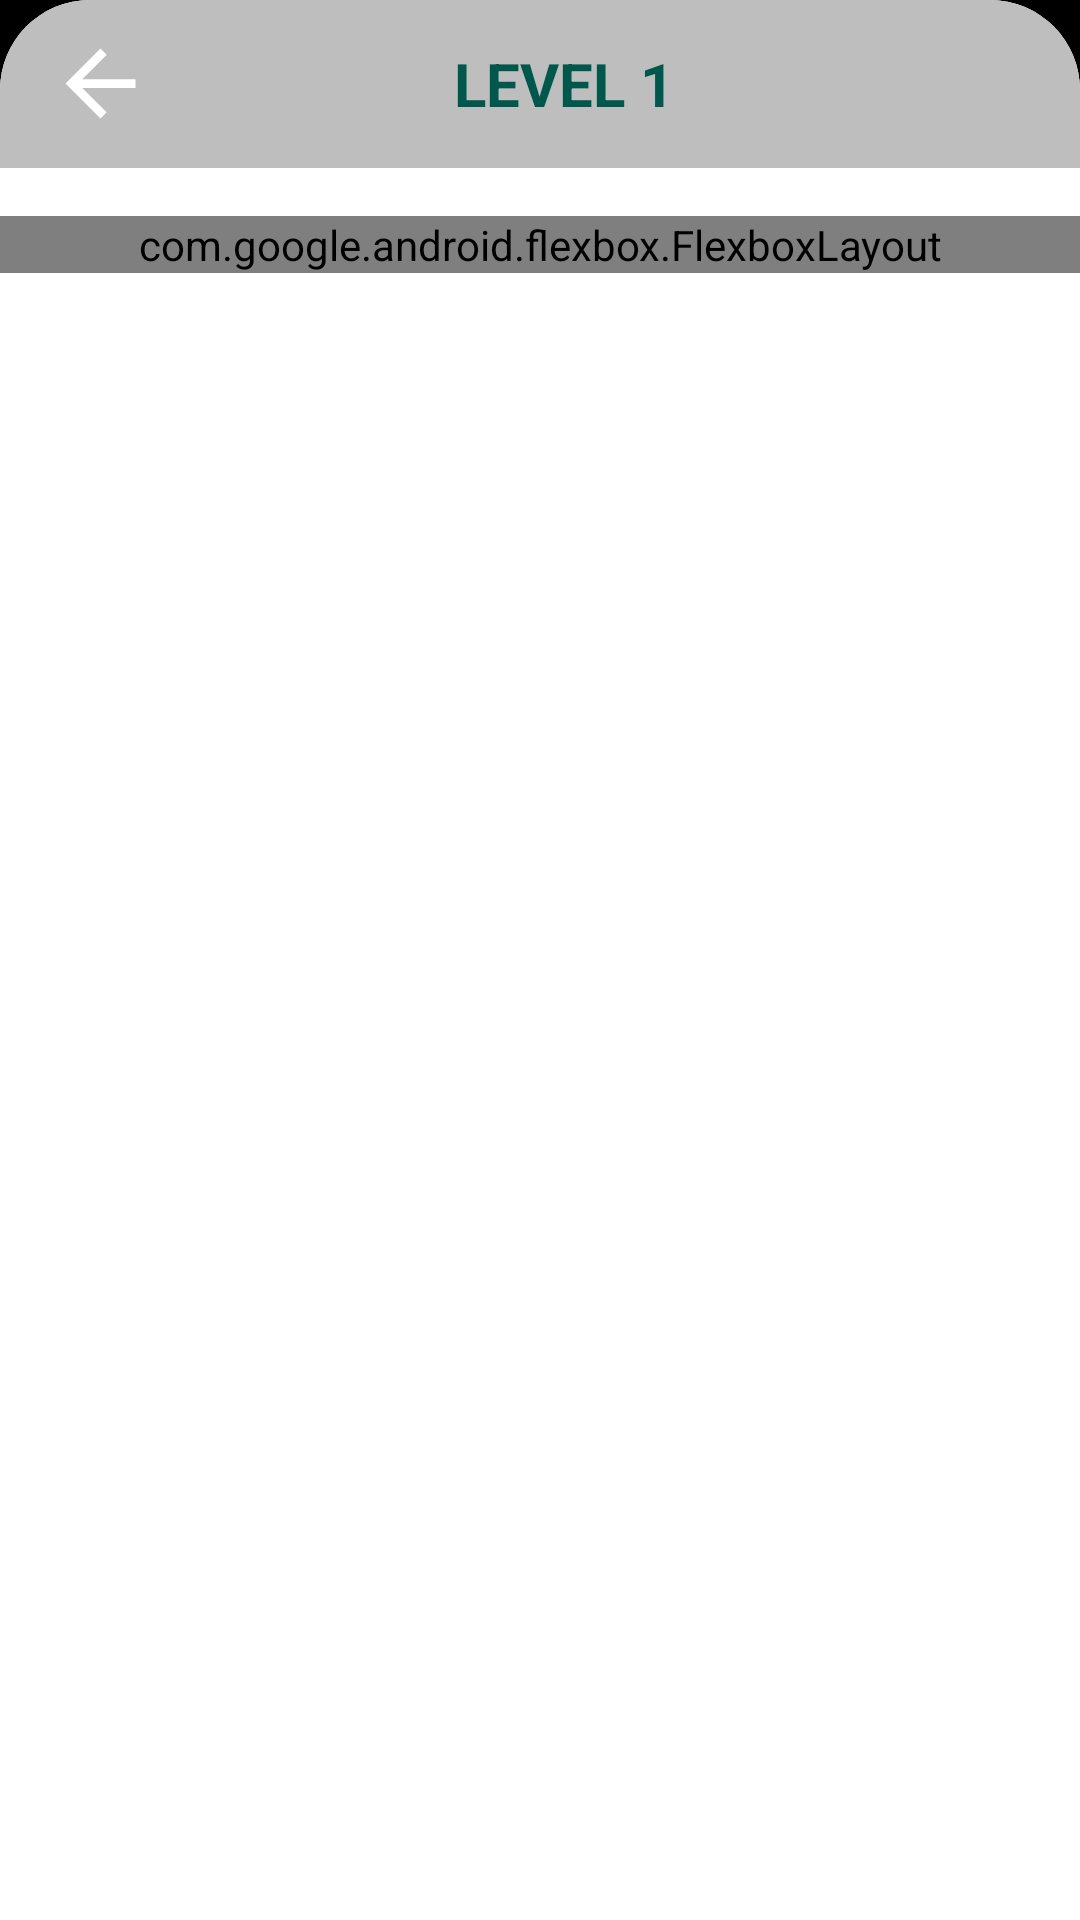

Icon click points for this 1080px×1920px phone screenshot, format (x=x, y=y):
arrow back: (x=101, y=83)
